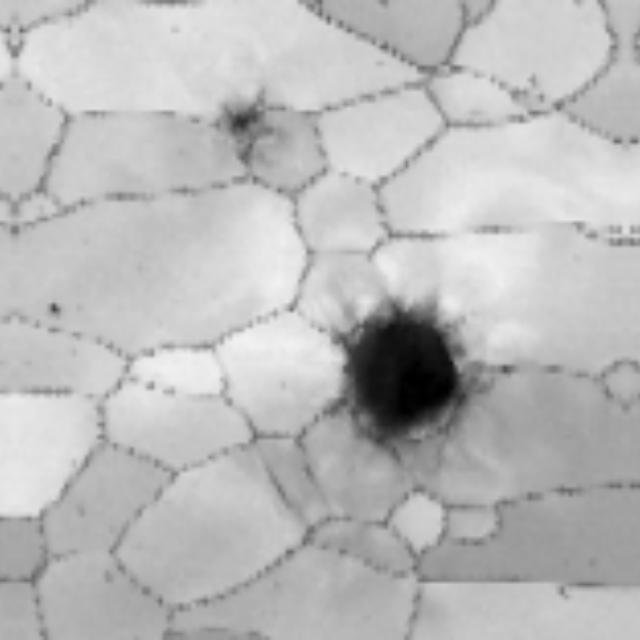good_void: (315, 292, 500, 484), (203, 80, 294, 188), (46, 297, 63, 319)
